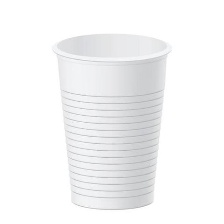glass: (48, 24, 175, 213)
